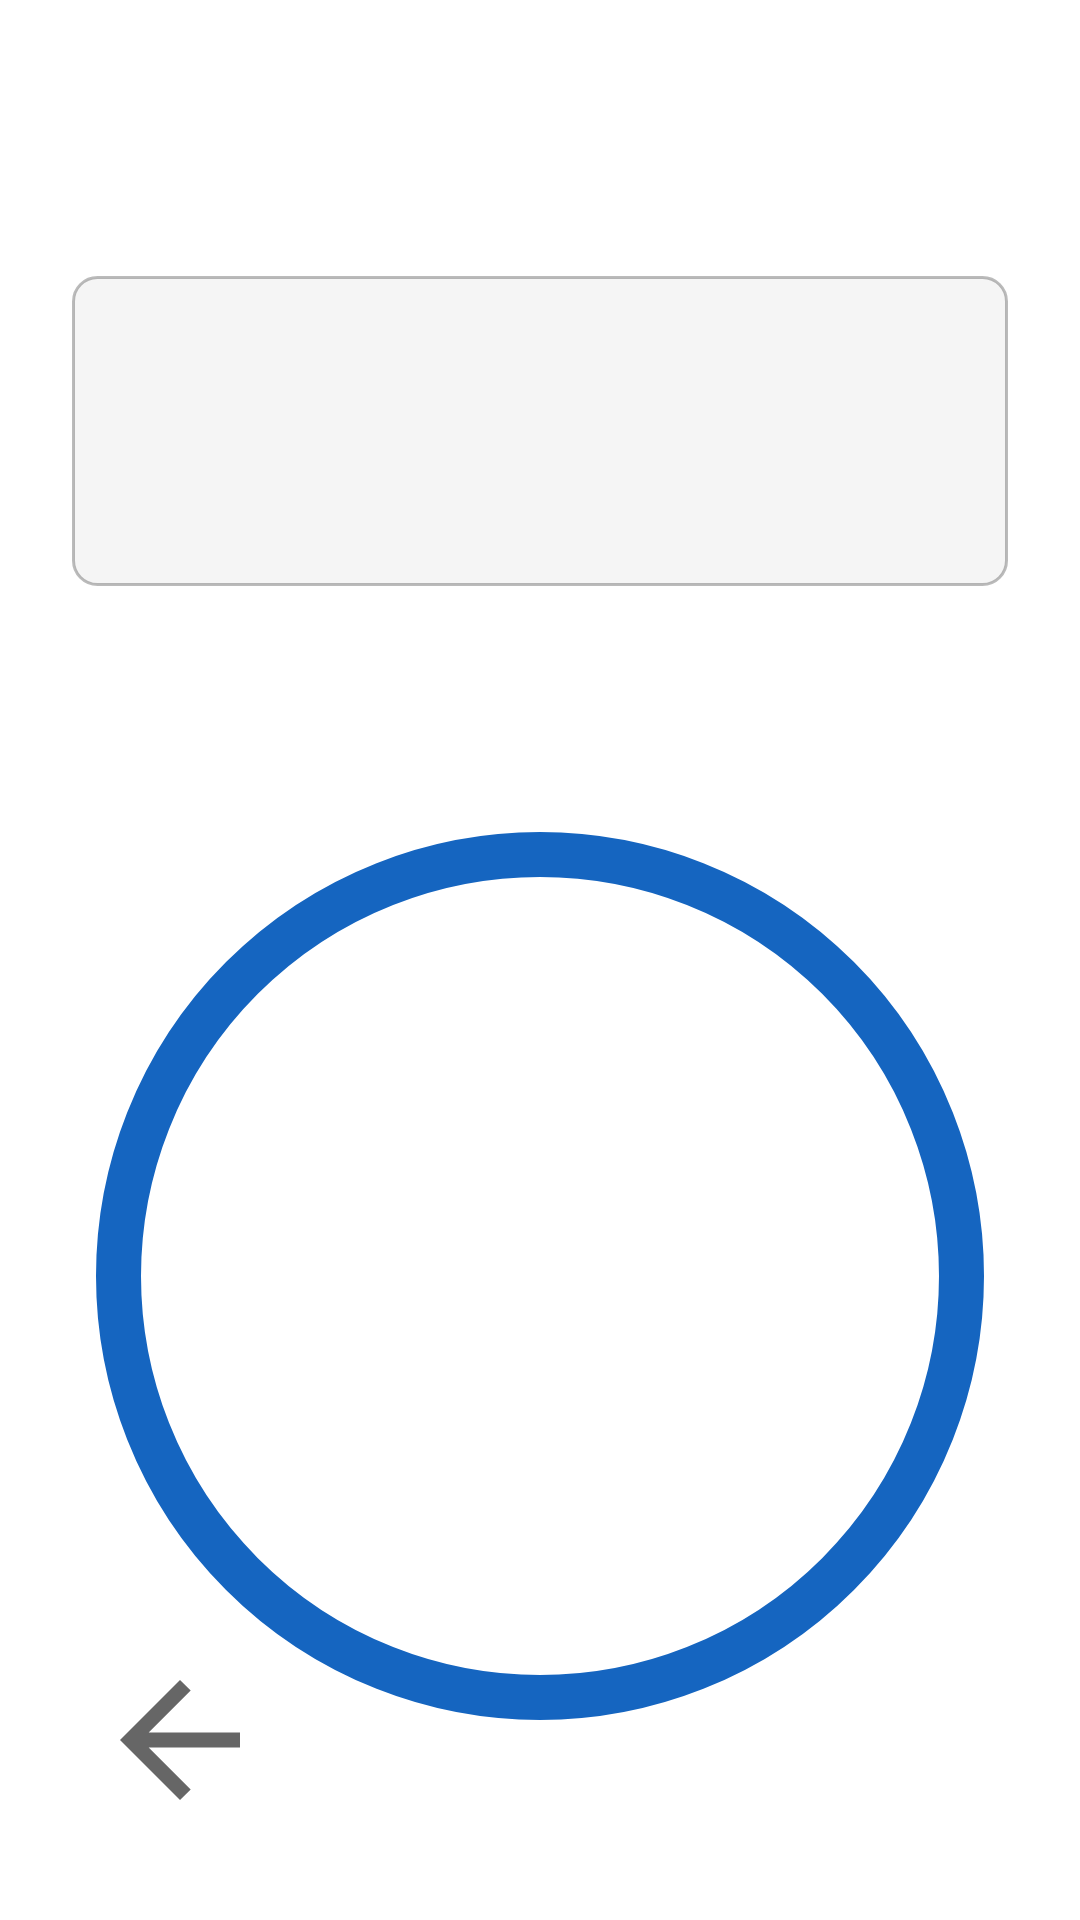

Icon click points for this 1080 x 1920 phone screenshot, format (x=x, y=y):
arrow back: (x=180, y=1740)
